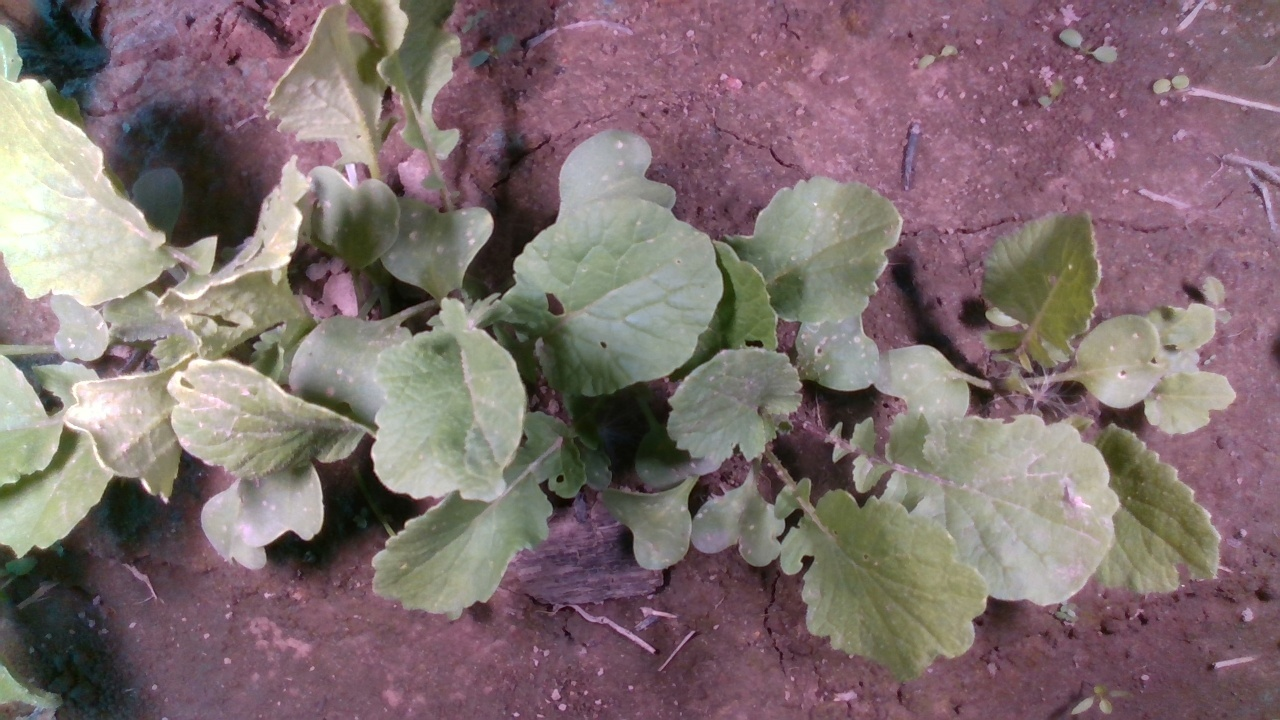weed: (1050, 28, 1123, 65)
